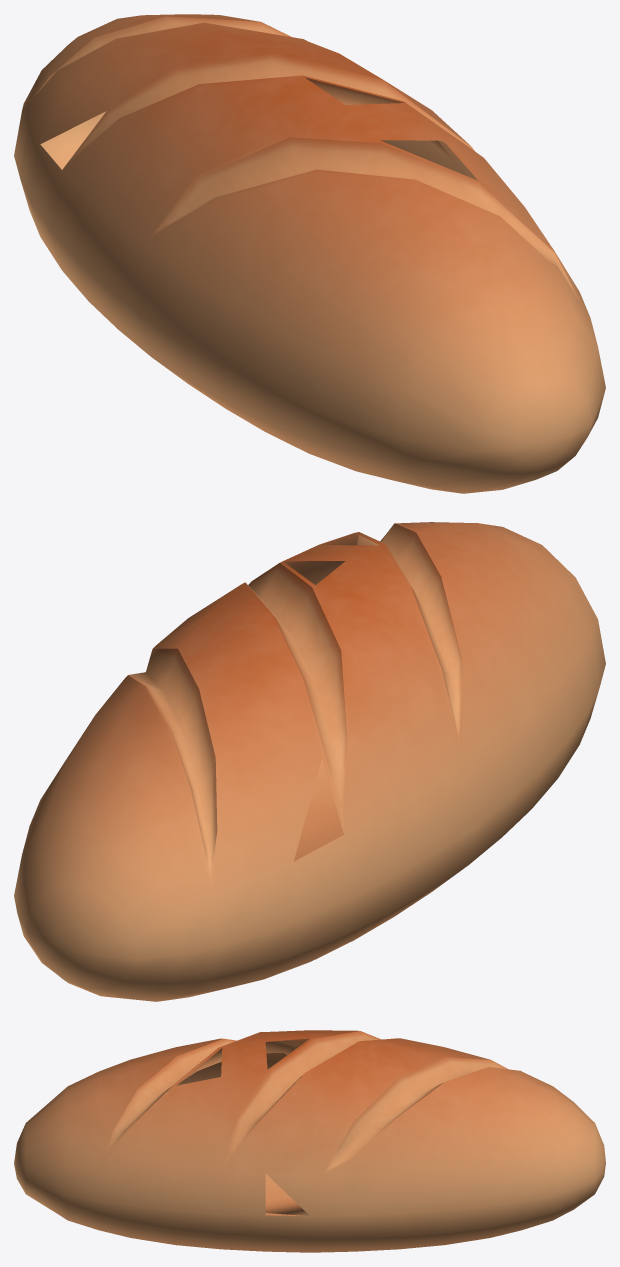
File: pastries6.fbx
3 views of the same model, one above another, from view 1: azimuth 30°, elevation 25°; view 2: azimuth 150°, elevation 25°; view 3: azimuth 270°, elevation 25° (orthographic). The views are drawn at different scales.
Parts seen in each view (by area): view 1: pastries6; view 2: pastries6; view 3: pastries6.
Boxes of the visible parts, x1,y1,x2,y2 form: pastries6: (14,14,605,493); pastries6: (14,522,605,1001); pastries6: (14,1030,605,1252).
Size of the model in its own units: 5229 by 4522 by 12379.
Materials: 1 (1 with a texture image).
